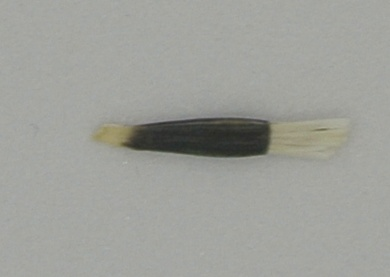เมล็ดดีติดกัน: (82, 116, 353, 164)
